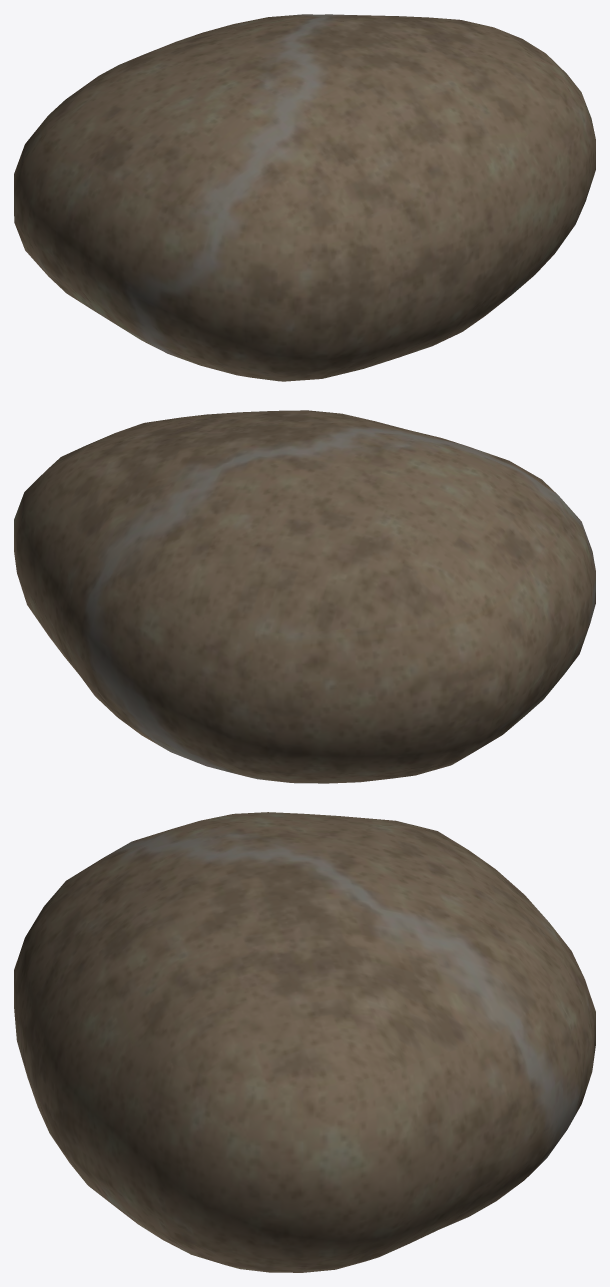
Rendered from chunky_cobble_02.glb.
The picture shows the model from 3 angles, top to bottom: view 1: azimuth 30°, elevation 25°; view 2: azimuth 150°, elevation 25°; view 3: azimuth 270°, elevation 25°; orthographic projection. The views are drawn at different scales.
Visible parts, largest first — view 1: chunky_cobble_02; view 2: chunky_cobble_02; view 3: chunky_cobble_02.
Boxes of the visible parts, x1,y1,x2,y2 form: chunky_cobble_02: (14,14,595,381); chunky_cobble_02: (14,410,595,783); chunky_cobble_02: (14,812,595,1272).
Bounding box in the file's own units: 0.0601 × 0.0328 × 0.0498.
1 material, 1 textured.
